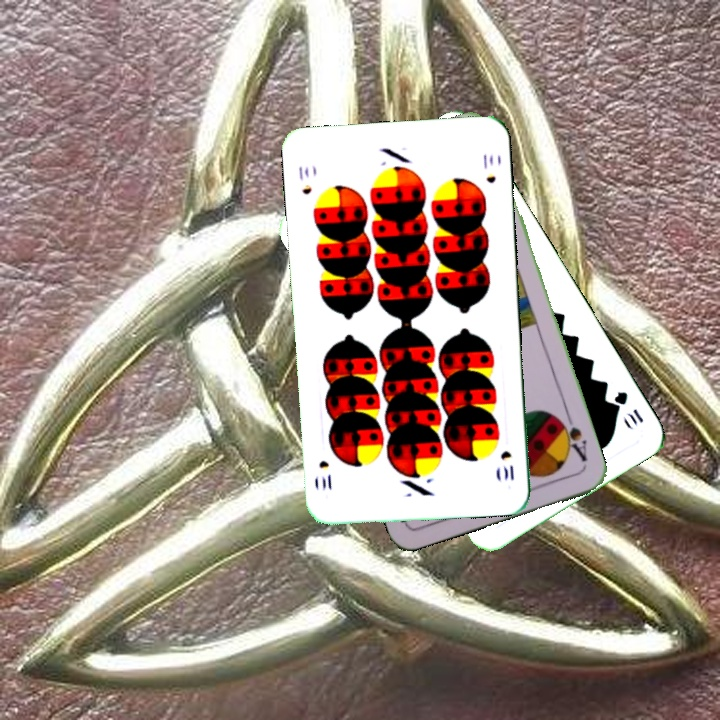G10: (609, 387, 647, 429)
S10: (496, 446, 517, 483), (295, 162, 314, 197)
SA: (554, 410, 590, 464)
